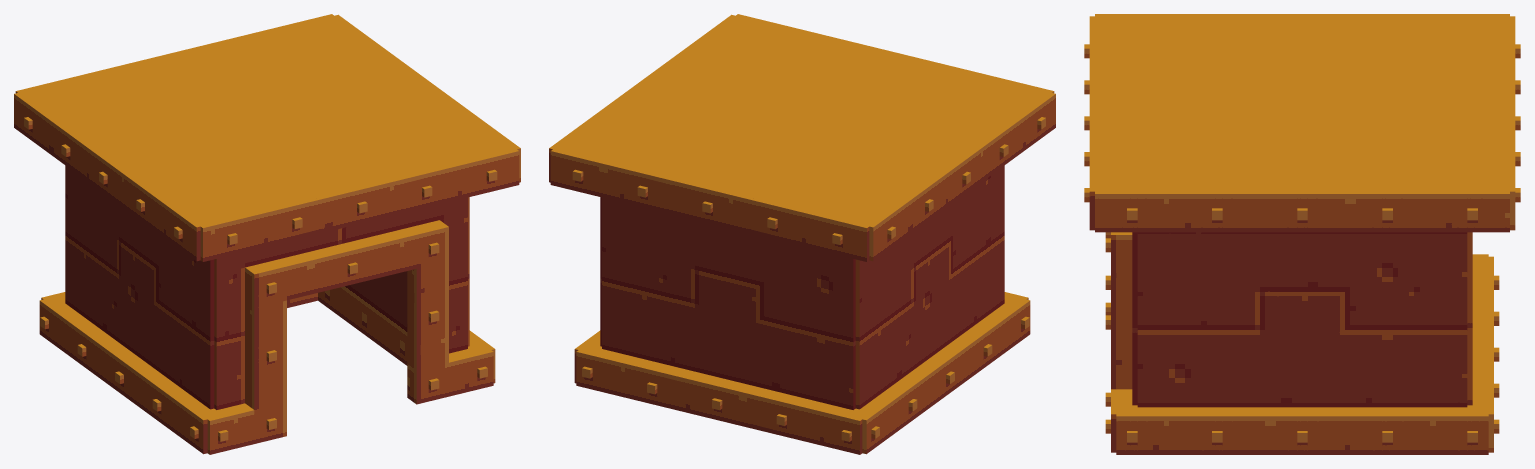
Rendered from indust_core_spinao.fezao.glb.
3 renders of one model, left to right at view 1: azimuth 30°, elevation 25°; view 2: azimuth 150°, elevation 25°; view 3: azimuth 270°, elevation 25°, orthographic. The views are drawn at different scales.
Parts seen in each view (by area): view 1: INDUST_CORE_SPINAO; view 2: INDUST_CORE_SPINAO; view 3: INDUST_CORE_SPINAO.
Part boxes in pixels (<box>): INDUST_CORE_SPINAO: <box>14,14,520,454</box>; INDUST_CORE_SPINAO: <box>549,14,1055,454</box>; INDUST_CORE_SPINAO: <box>1084,14,1520,454</box>.
Size of the model in its own units: 5.12 by 3.5 by 5.12.
1 material, 1 textured.
